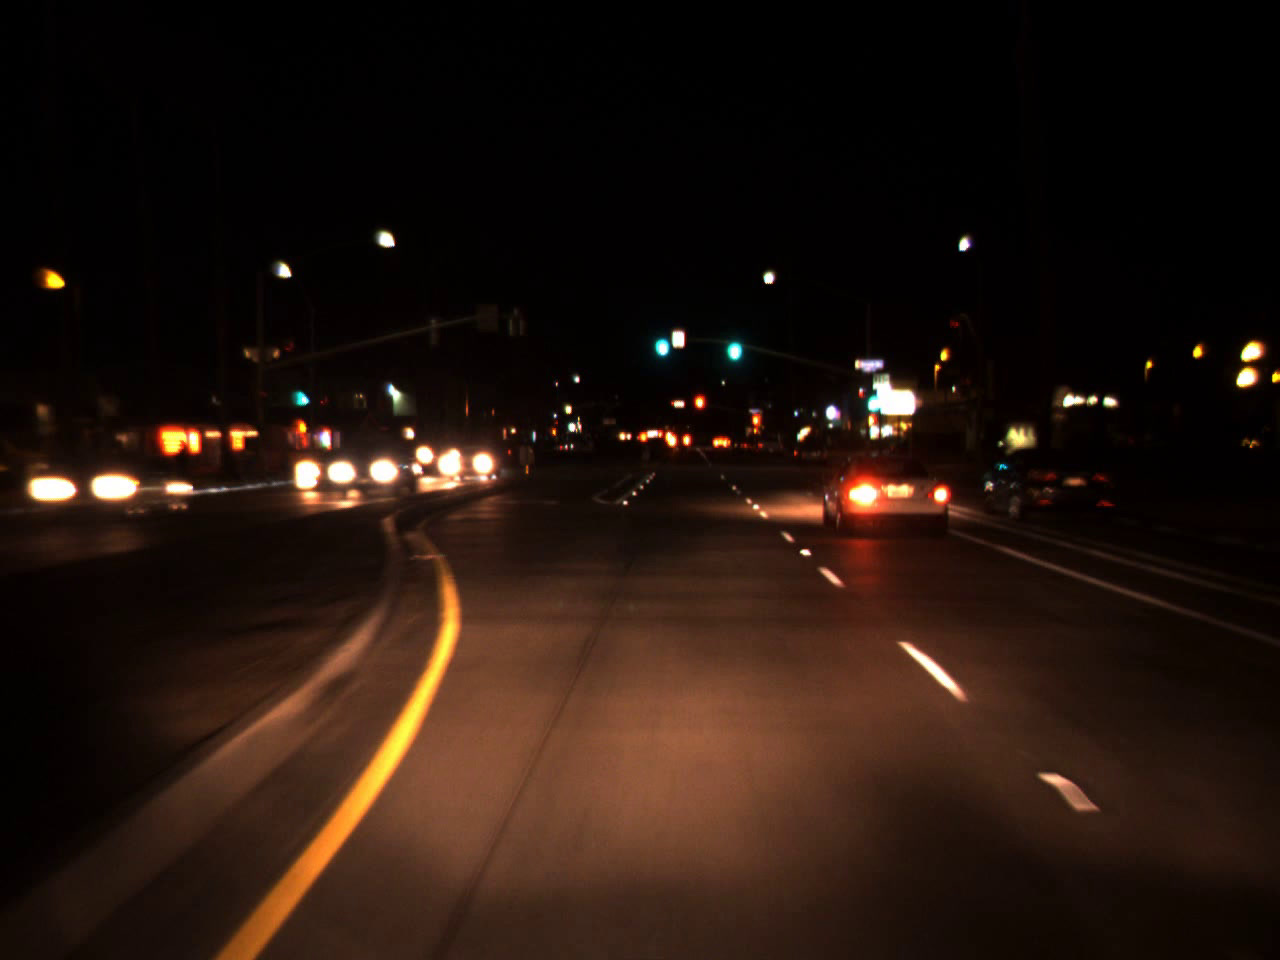go: (721, 320, 744, 368), (650, 319, 671, 361), (292, 372, 310, 411), (861, 380, 880, 416)
stop: (692, 393, 707, 425), (751, 411, 761, 443)
